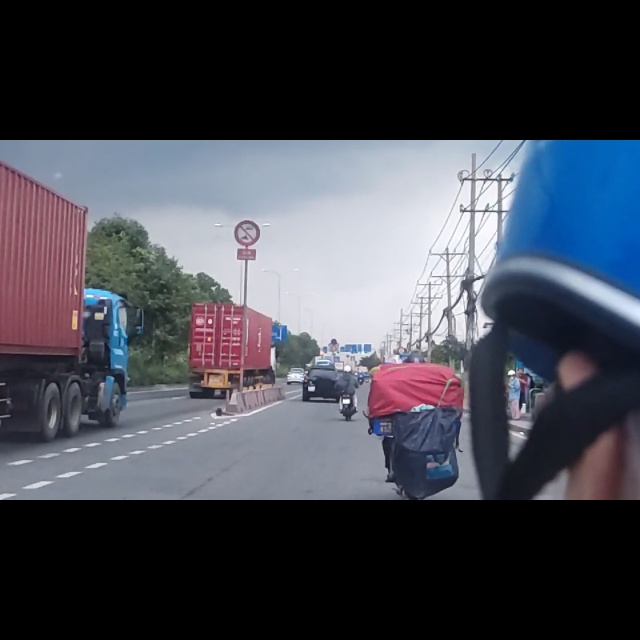bien_chi_dan: (235, 143, 261, 188)
